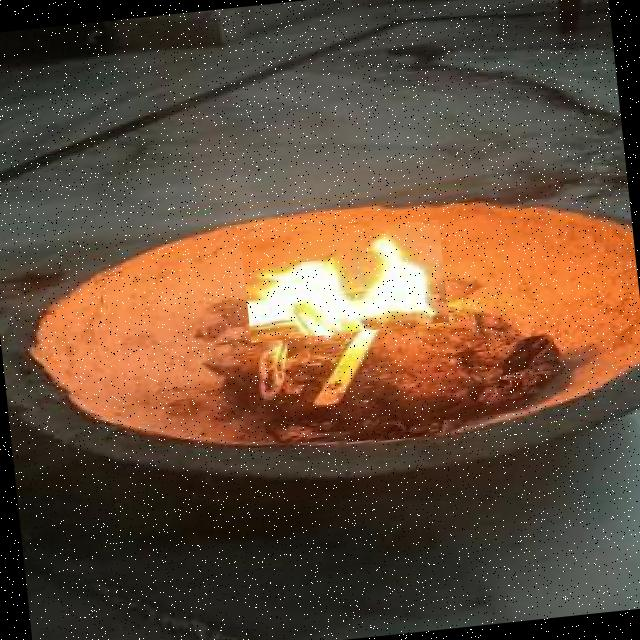fire: (240, 219, 449, 342)
